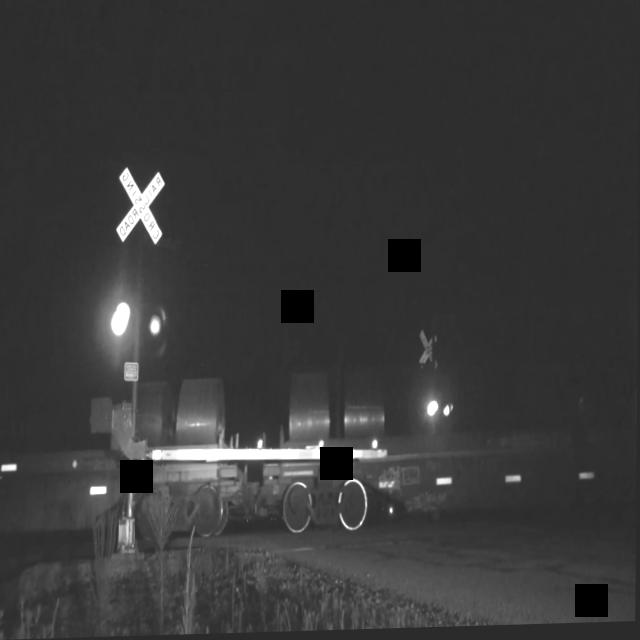tank: (257, 438, 631, 555), (0, 456, 245, 565)
